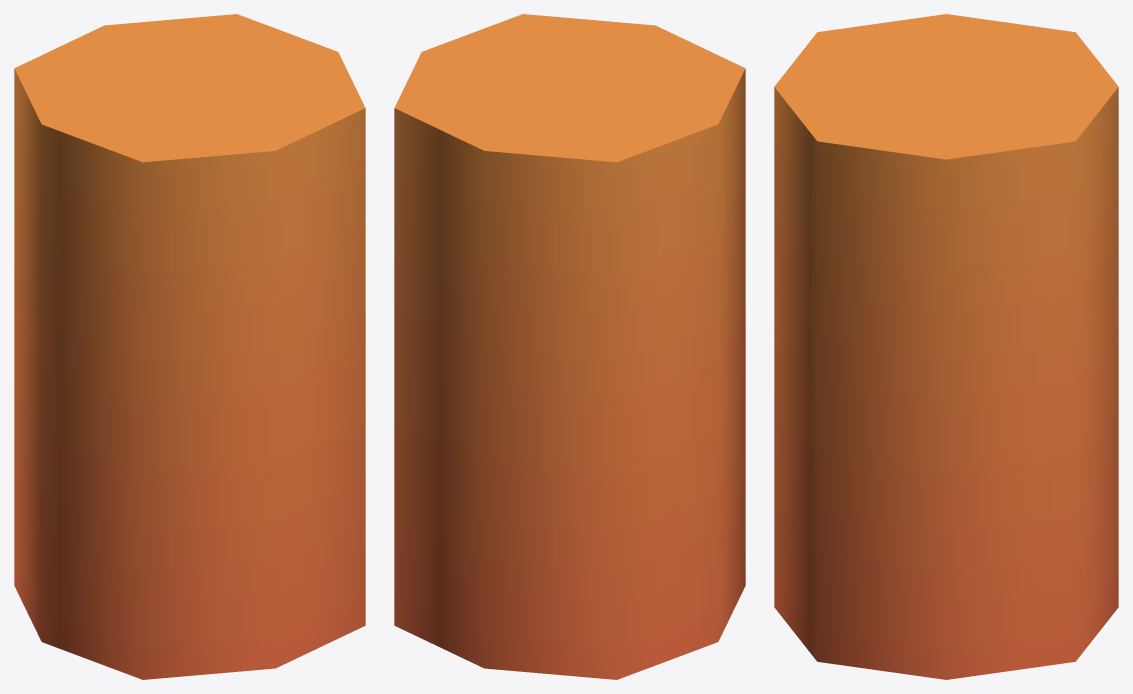
The model's file is bullet-foam-thick.glb.
3 views of the same model, side by side, from view 1: azimuth 30°, elevation 25°; view 2: azimuth 150°, elevation 25°; view 3: azimuth 270°, elevation 25° (orthographic).
Visible parts, largest first — view 1: bullet-foam-thick; view 2: bullet-foam-thick; view 3: bullet-foam-thick.
Boxes of the visible parts, box(x1,y1,x2,y2) form: bullet-foam-thick: box(14, 14, 365, 679); bullet-foam-thick: box(394, 14, 745, 679); bullet-foam-thick: box(774, 14, 1118, 679).
Size of the model in its own units: 0.03 by 0.05 by 0.03.
Materials: 1 (1 with a texture image).
